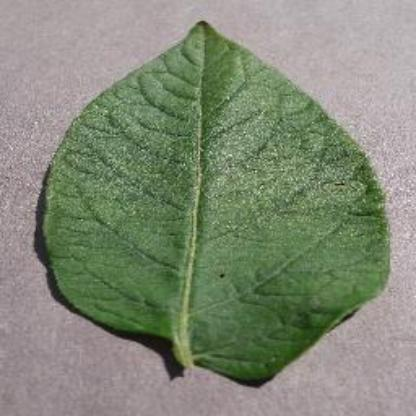Healthy-plant: (44, 15, 390, 375)
